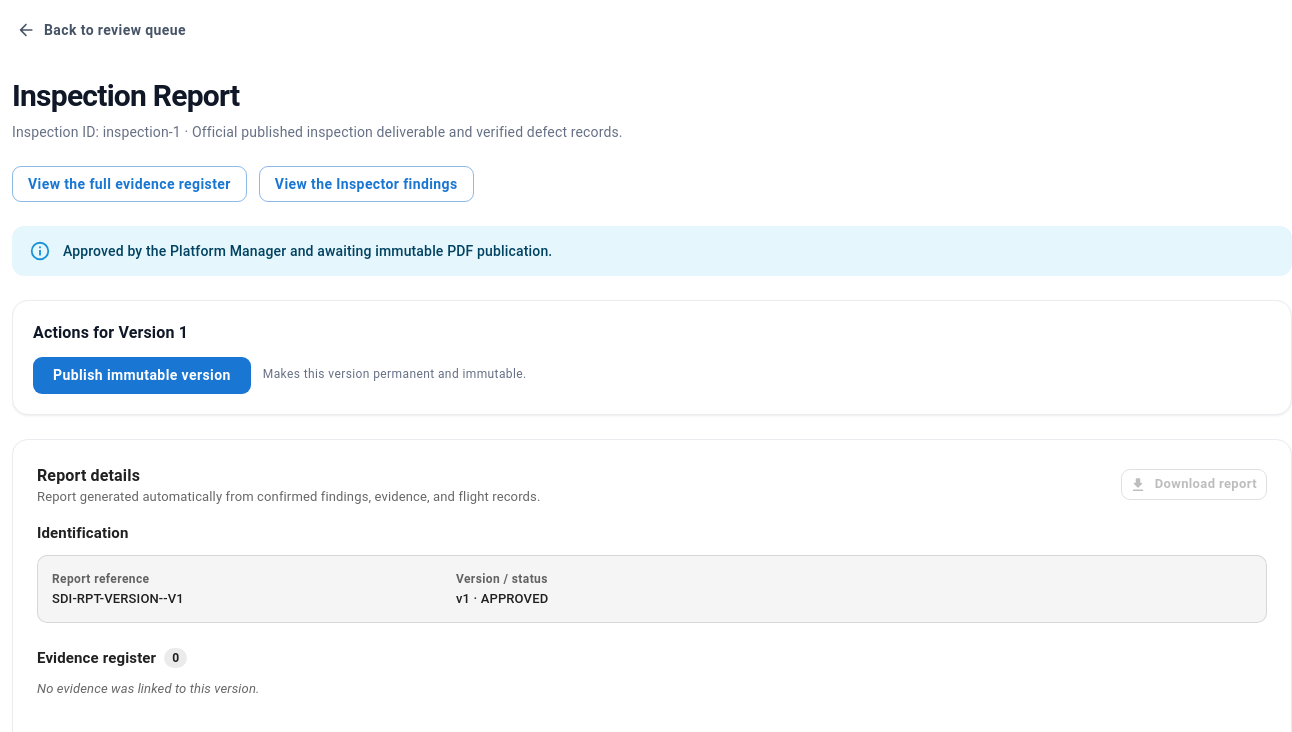
Test: ReportDetailPage MF3 gates › reveals the send-to-maintenance navigation after the report is published
Check: the text "Send to Maintenance (MF3-12)" is not shown
Step 1. Click the button "Publish immutable version" → [142, 375], box [33,357,251,394]
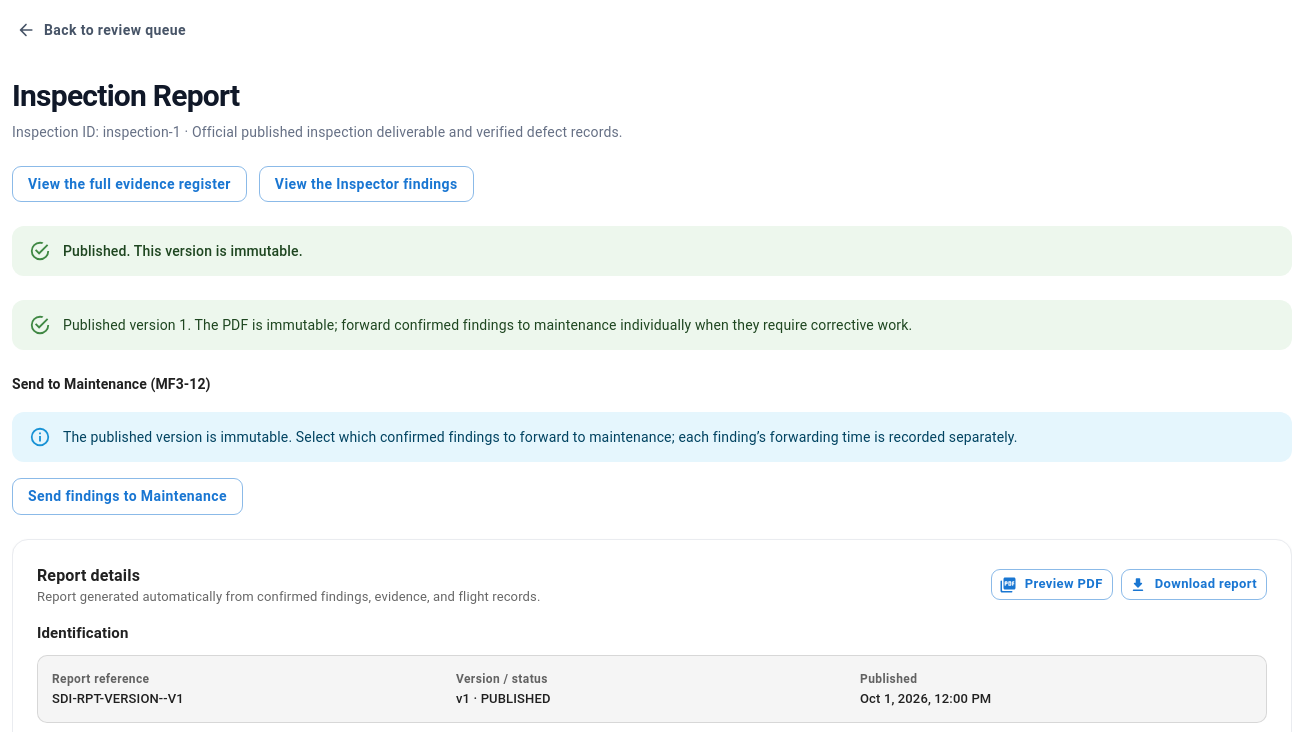
Check: the heading "Send to Maintenance (MF3-12)" is shown, box [12,376,211,392]
Check: the link "Send findings to Maintenance" is shown, box [12,478,243,514]
